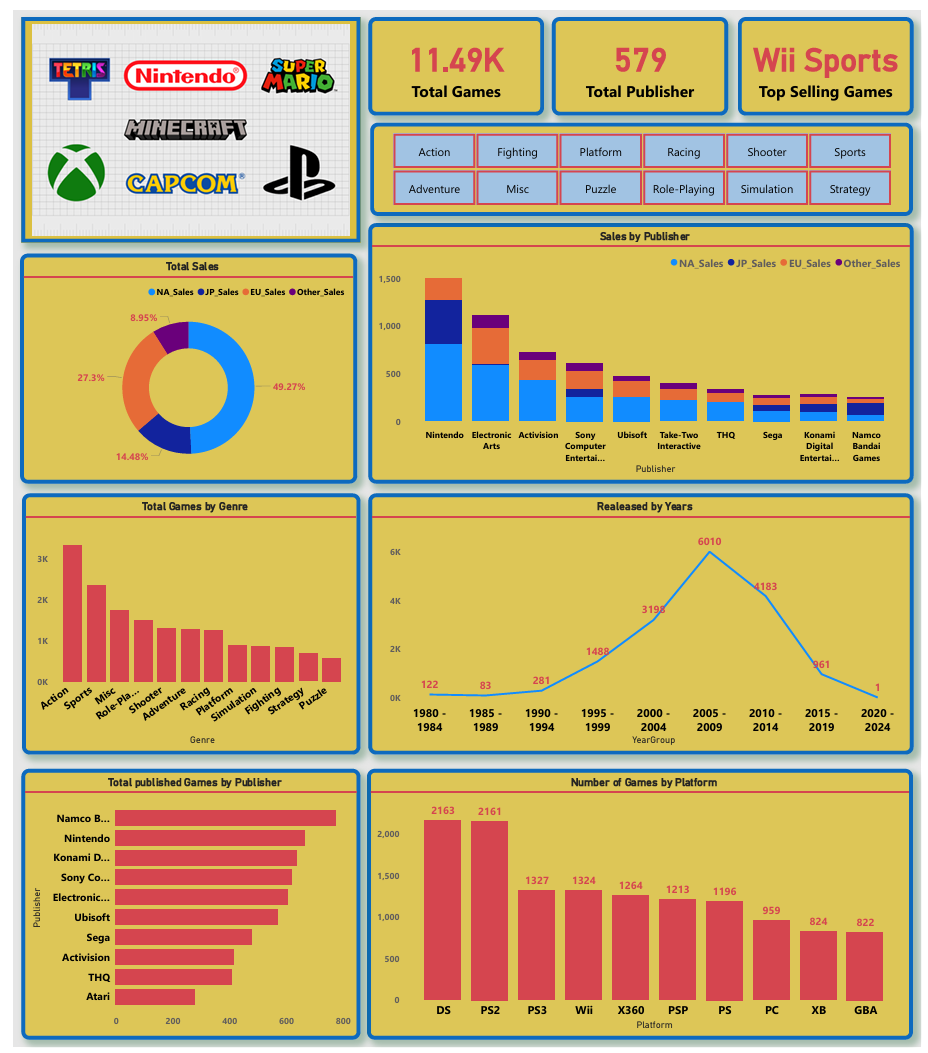

The page's visual inventory and layout, read from the dashboard file:
{"tool":"powerbi","page":{"name":"Page 1","canvas":[1400,1600],"ordinal":0},"visuals":[{"type":"image","box":[11.7,10,523.3,348.3],"z":0},{"type":"card","fields":{"Values":["Count(Sheet1.Name)"]},"box":[546.7,10,271.7,151.7],"z":1000},{"type":"lineChart","title":"Realeased  by Years","fields":{"Y":["CountNonNull(Sheet1.Name)"],"Category":["Sheet1.YearGroup"]},"box":[546.7,745,841.7,403.3],"z":2000},{"type":"columnChart","title":"Number of Games by Platform","fields":{"Category":["Sheet1.Platform"],"Y":["Count(Sheet1.Name)"]},"box":[545,1170,841.7,418.3],"z":3000},{"type":"barChart","title":"Total published Games by Publisher","fields":{"Category":["Sheet1.Publisher"],"Y":["Count(Sheet1.Name)"]},"box":[11.7,1170,523.3,418.3],"z":4000},{"type":"columnChart","title":"Sales by Publisher","fields":{"Category":["Sheet1.Publisher"],"Y":["Sum(Sheet1.NA_Sales)","Sum(Sheet1.JP_Sales)","Sum(Sheet1.EU_Sales)","Sum(Sheet1.Other_Sales)"]},"box":[546.7,328.3,841.7,401.7],"z":5000},{"type":"donutChart","title":"Total Sales","fields":{"Y":["Sum(Sheet1.NA_Sales)","Sum(Sheet1.JP_Sales)","Sum(Sheet1.EU_Sales)","Sum(Sheet1.Other_Sales)"]},"box":[10,375,520,355],"z":6000},{"type":"card","fields":{"Values":["Min(Sheet1.Name)"]},"box":[1116.7,10,271.7,151.7],"z":7000},{"type":"columnChart","title":"Total Games by Genre","fields":{"Category":["Sheet1.Genre"],"Y":["CountNonNull(Sheet1.Genre)"]},"box":[13.3,745,521.7,403.3],"z":8000},{"type":"card","fields":{"Values":["Count(Sheet1.Publisher)"]},"box":[830,10,271.7,151.7],"z":9000},{"type":"slicer","fields":{"Values":["Sheet1.Genre"]},"box":[550,173.3,836.7,143.3],"z":10000}]}

Visuals, with their boxes in screenshot pixels (x1, y1, x2, y2), scaled from the page's 1400x1600 canvas onto the 928x1053 screenshot:
image: box=[8, 7, 355, 236]
card - Count(Sheet1.Name): box=[362, 7, 542, 106]
"Realeased  by Years" lineChart: box=[362, 490, 920, 756]
"Number of Games by Platform" columnChart: box=[361, 770, 919, 1045]
"Total published Games by Publisher" barChart: box=[8, 770, 355, 1045]
"Sales by Publisher" columnChart: box=[362, 216, 920, 480]
"Total Sales" donutChart: box=[7, 247, 351, 480]
card - Min(Sheet1.Name): box=[740, 7, 920, 106]
"Total Games by Genre" columnChart: box=[9, 490, 355, 756]
card - Count(Sheet1.Publisher): box=[550, 7, 730, 106]
slicer - Sheet1.Genre: box=[365, 114, 919, 208]
